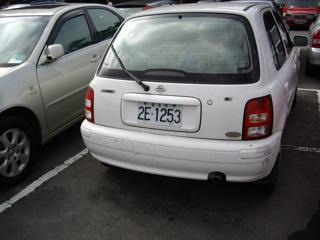plate: (136, 100, 182, 129)
